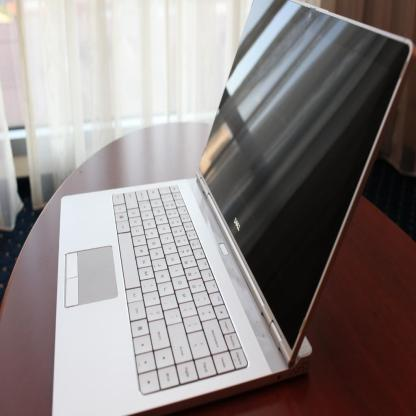board: (52, 0, 413, 416)
